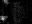person: (4, 0, 9, 6), (1, 14, 5, 19)
